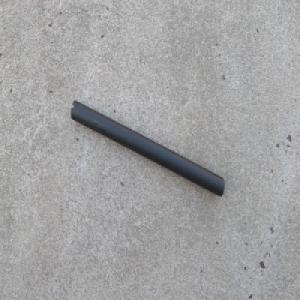LuggagePart: (68, 98, 225, 198)
